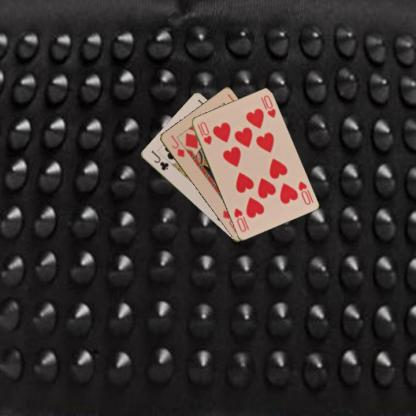10h: (194, 119, 212, 146), (296, 179, 312, 206)
Jc: (148, 148, 170, 172)
Jd: (168, 132, 186, 158)
